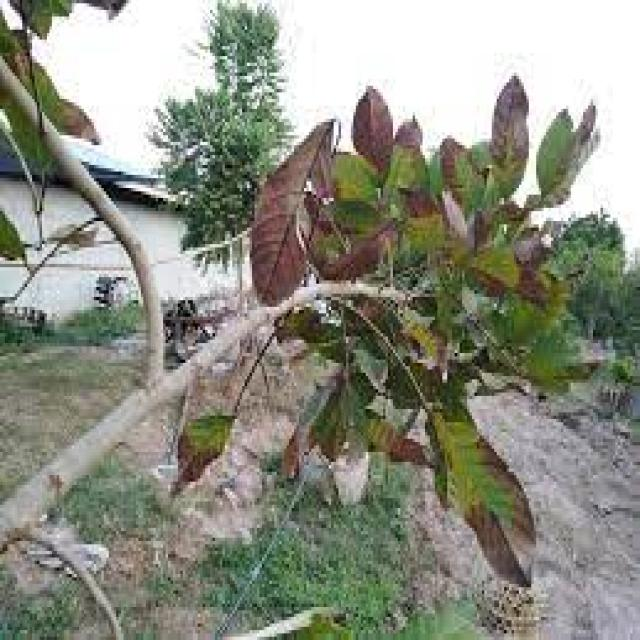Leaf Blight: (200, 82, 581, 521)
